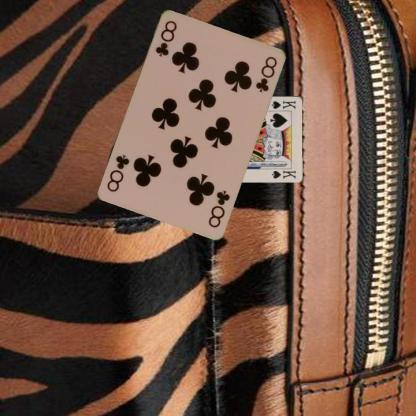8c: (205, 186, 231, 228), (152, 17, 178, 58)
Ks: (269, 98, 298, 110)
